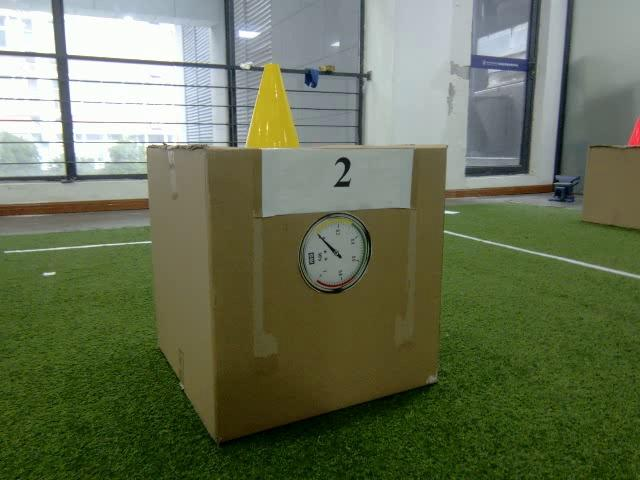2: (333, 154, 352, 192)
Dashboard: (300, 210, 374, 296)
ssi: (308, 251, 316, 266)
yellow_barrel: (244, 63, 304, 149)
